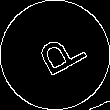P_SW: (24, 26, 86, 84)
